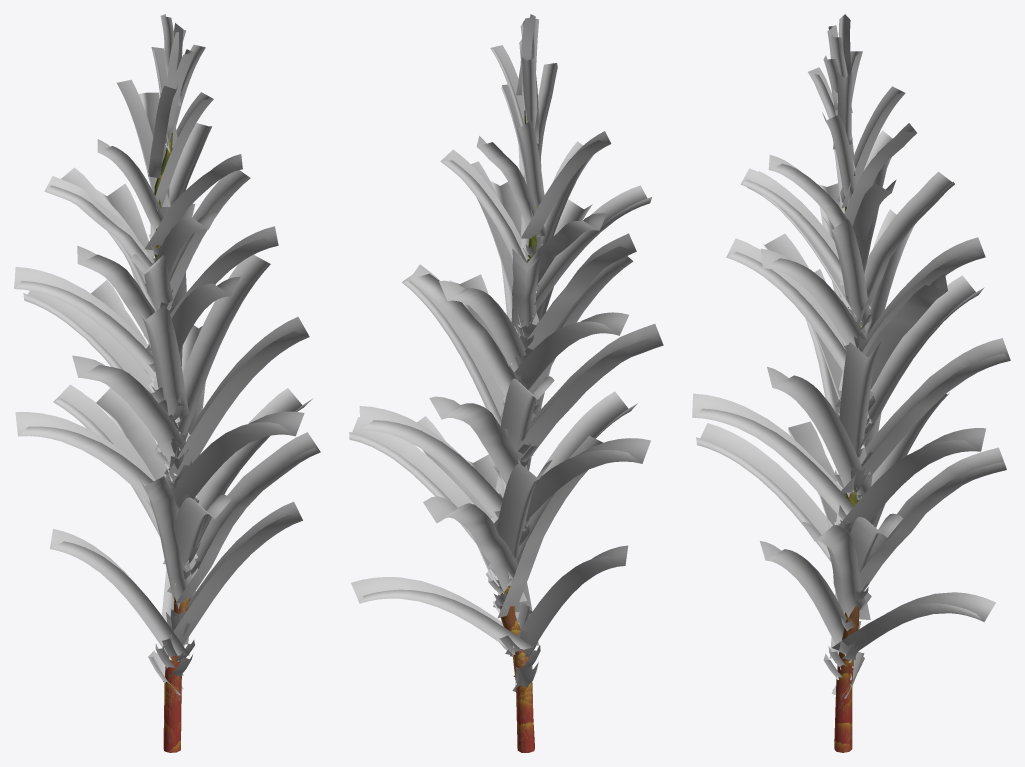
The model's file is Plant5_1_L0.fbx.
3 views of the same model, side by side, from view 1: azimuth 30°, elevation 25°; view 2: azimuth 150°, elevation 25°; view 3: azimuth 270°, elevation 25° (orthographic).
Visible parts, largest first — view 1: polySurface8; view 2: polySurface8; view 3: polySurface8.
Boxes of the visible parts, x1,y1,x2,y2 form: polySurface8: (14, 14, 320, 752); polySurface8: (349, 14, 663, 752); polySurface8: (692, 14, 1010, 752).
Size of the model in its own units: 247 by 599 by 237.
